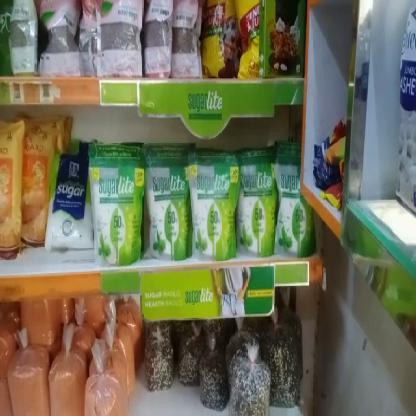SUGARLITE POUCH 500G: (95, 162, 144, 262), (189, 166, 236, 264), (146, 162, 188, 256), (272, 166, 310, 262), (238, 160, 274, 250)
